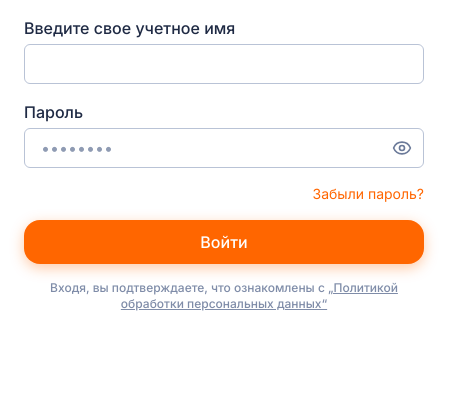
Scenario: LoginForm › Error Handling › should display API error on 401 Unauthorized
This screenshot has width=449, height=398.
Step 1. Type "wrong@example.com" into the field labelled "Введите свое учетное имя" → [224, 64], box [24, 44, 424, 84]
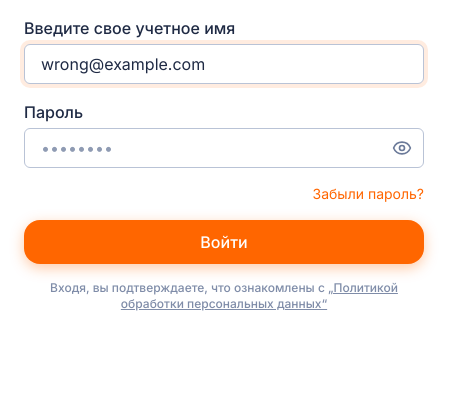
Step 2. Type "WrongPassword123" into the password field labelled "Пароль" → [224, 148], box [24, 128, 424, 168]
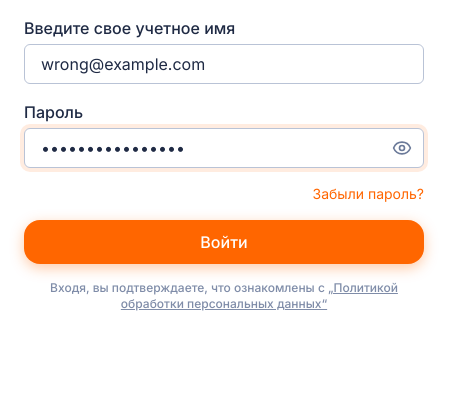
Step 3. Click the button "Войти" → [224, 242], box [24, 220, 424, 264]
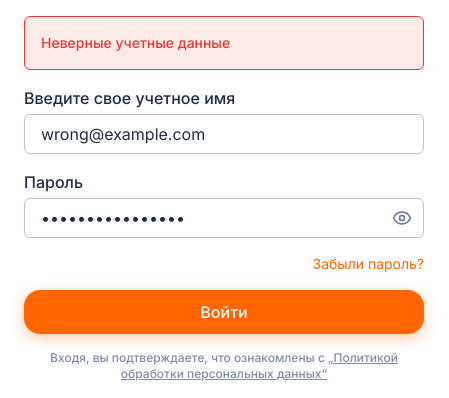
Result: the text "Неверные учетные данные" is shown at [41, 34, 230, 51]
